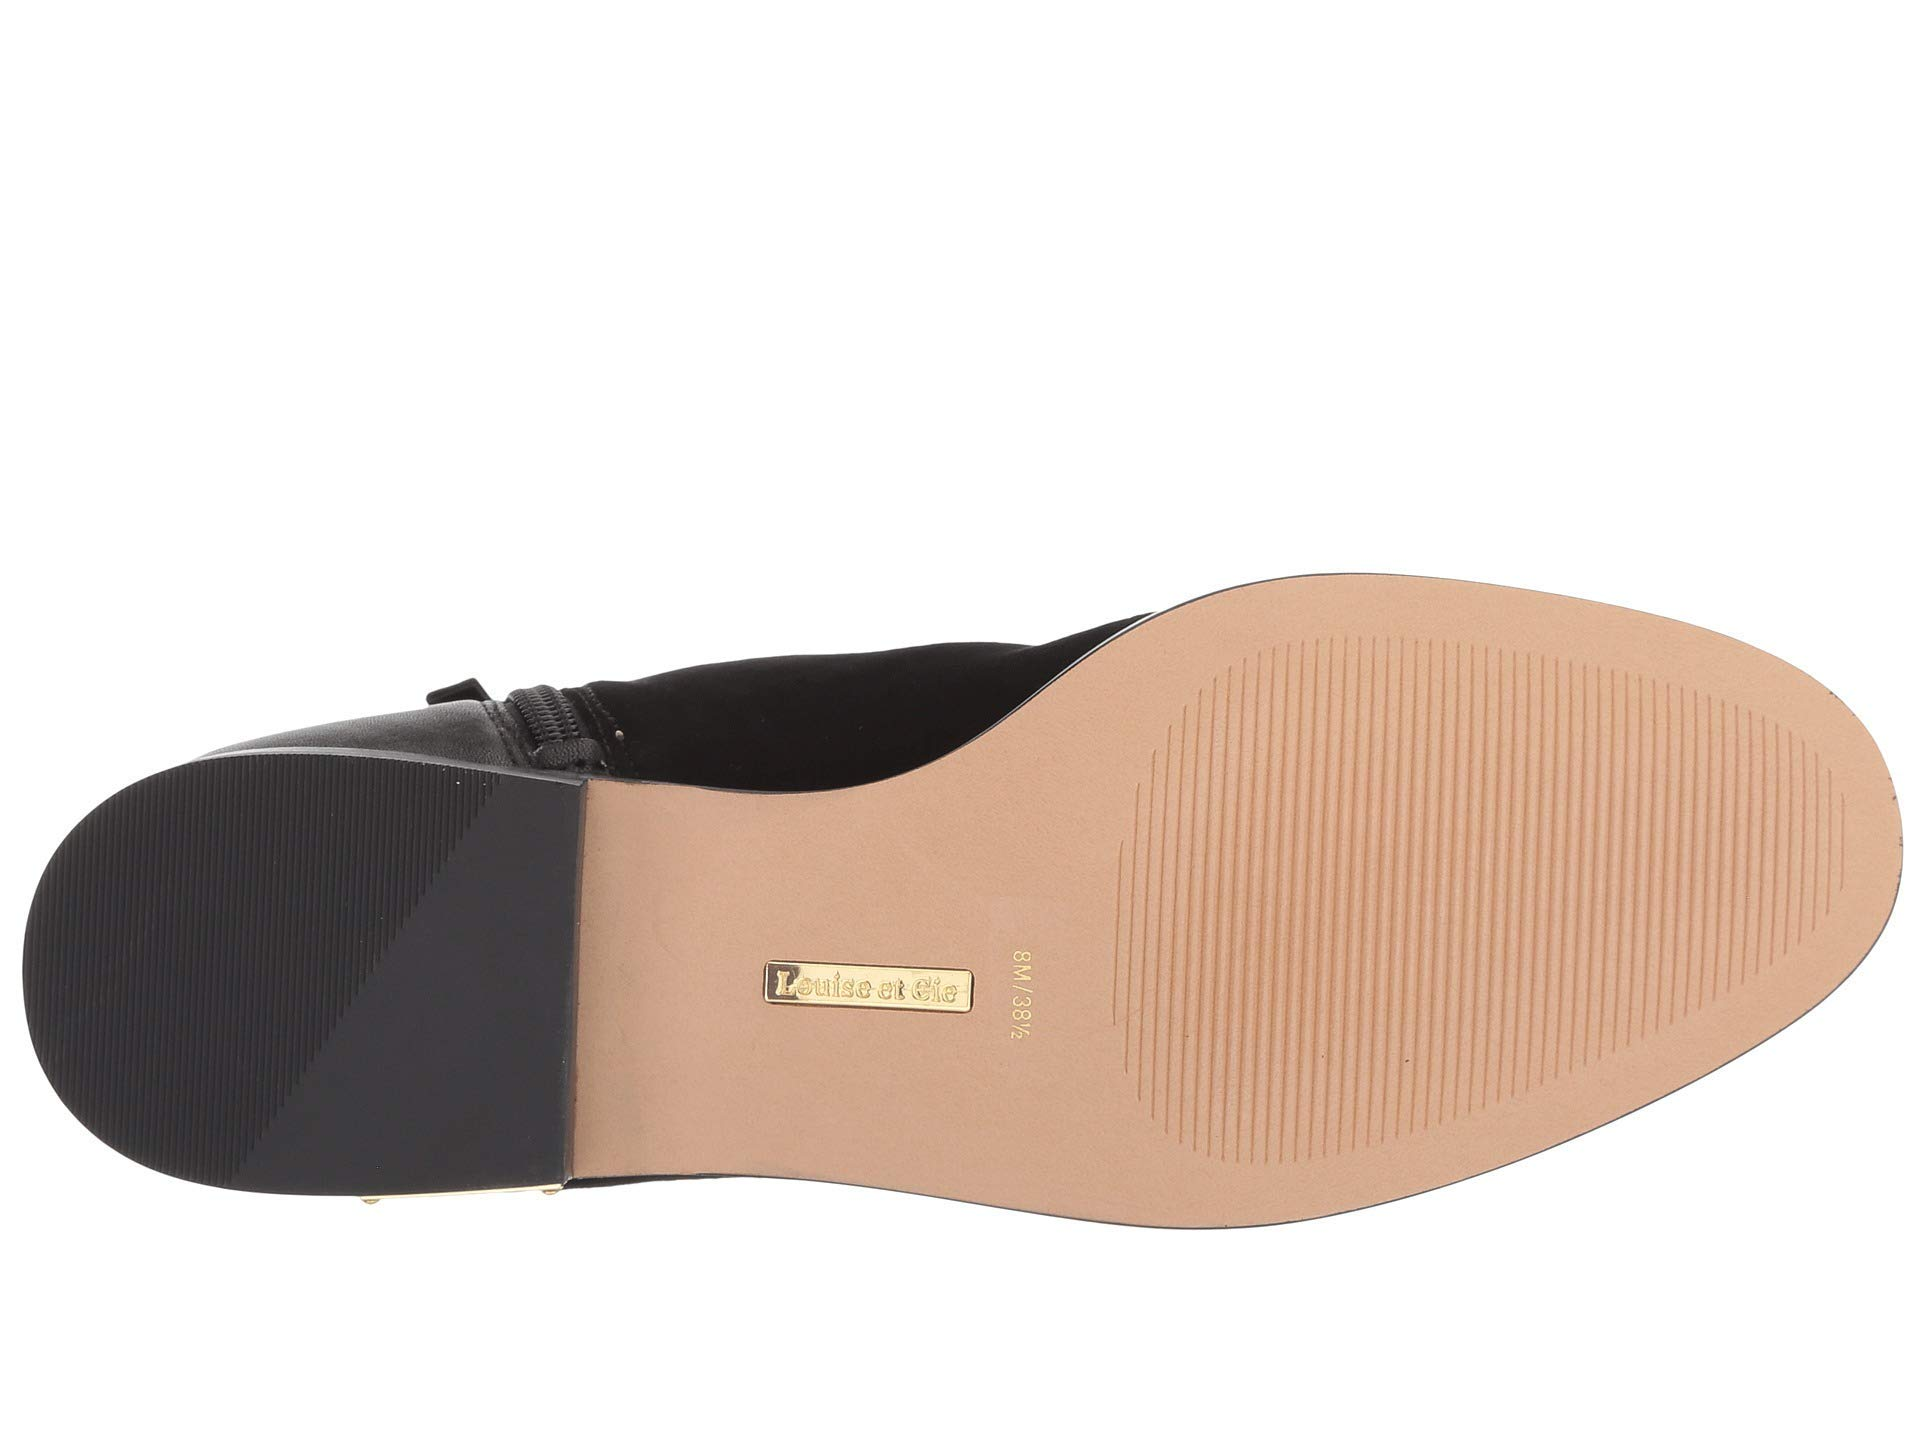line: (1276, 675, 1742, 995), (86, 805, 296, 1075), (1181, 983, 1544, 1119)
